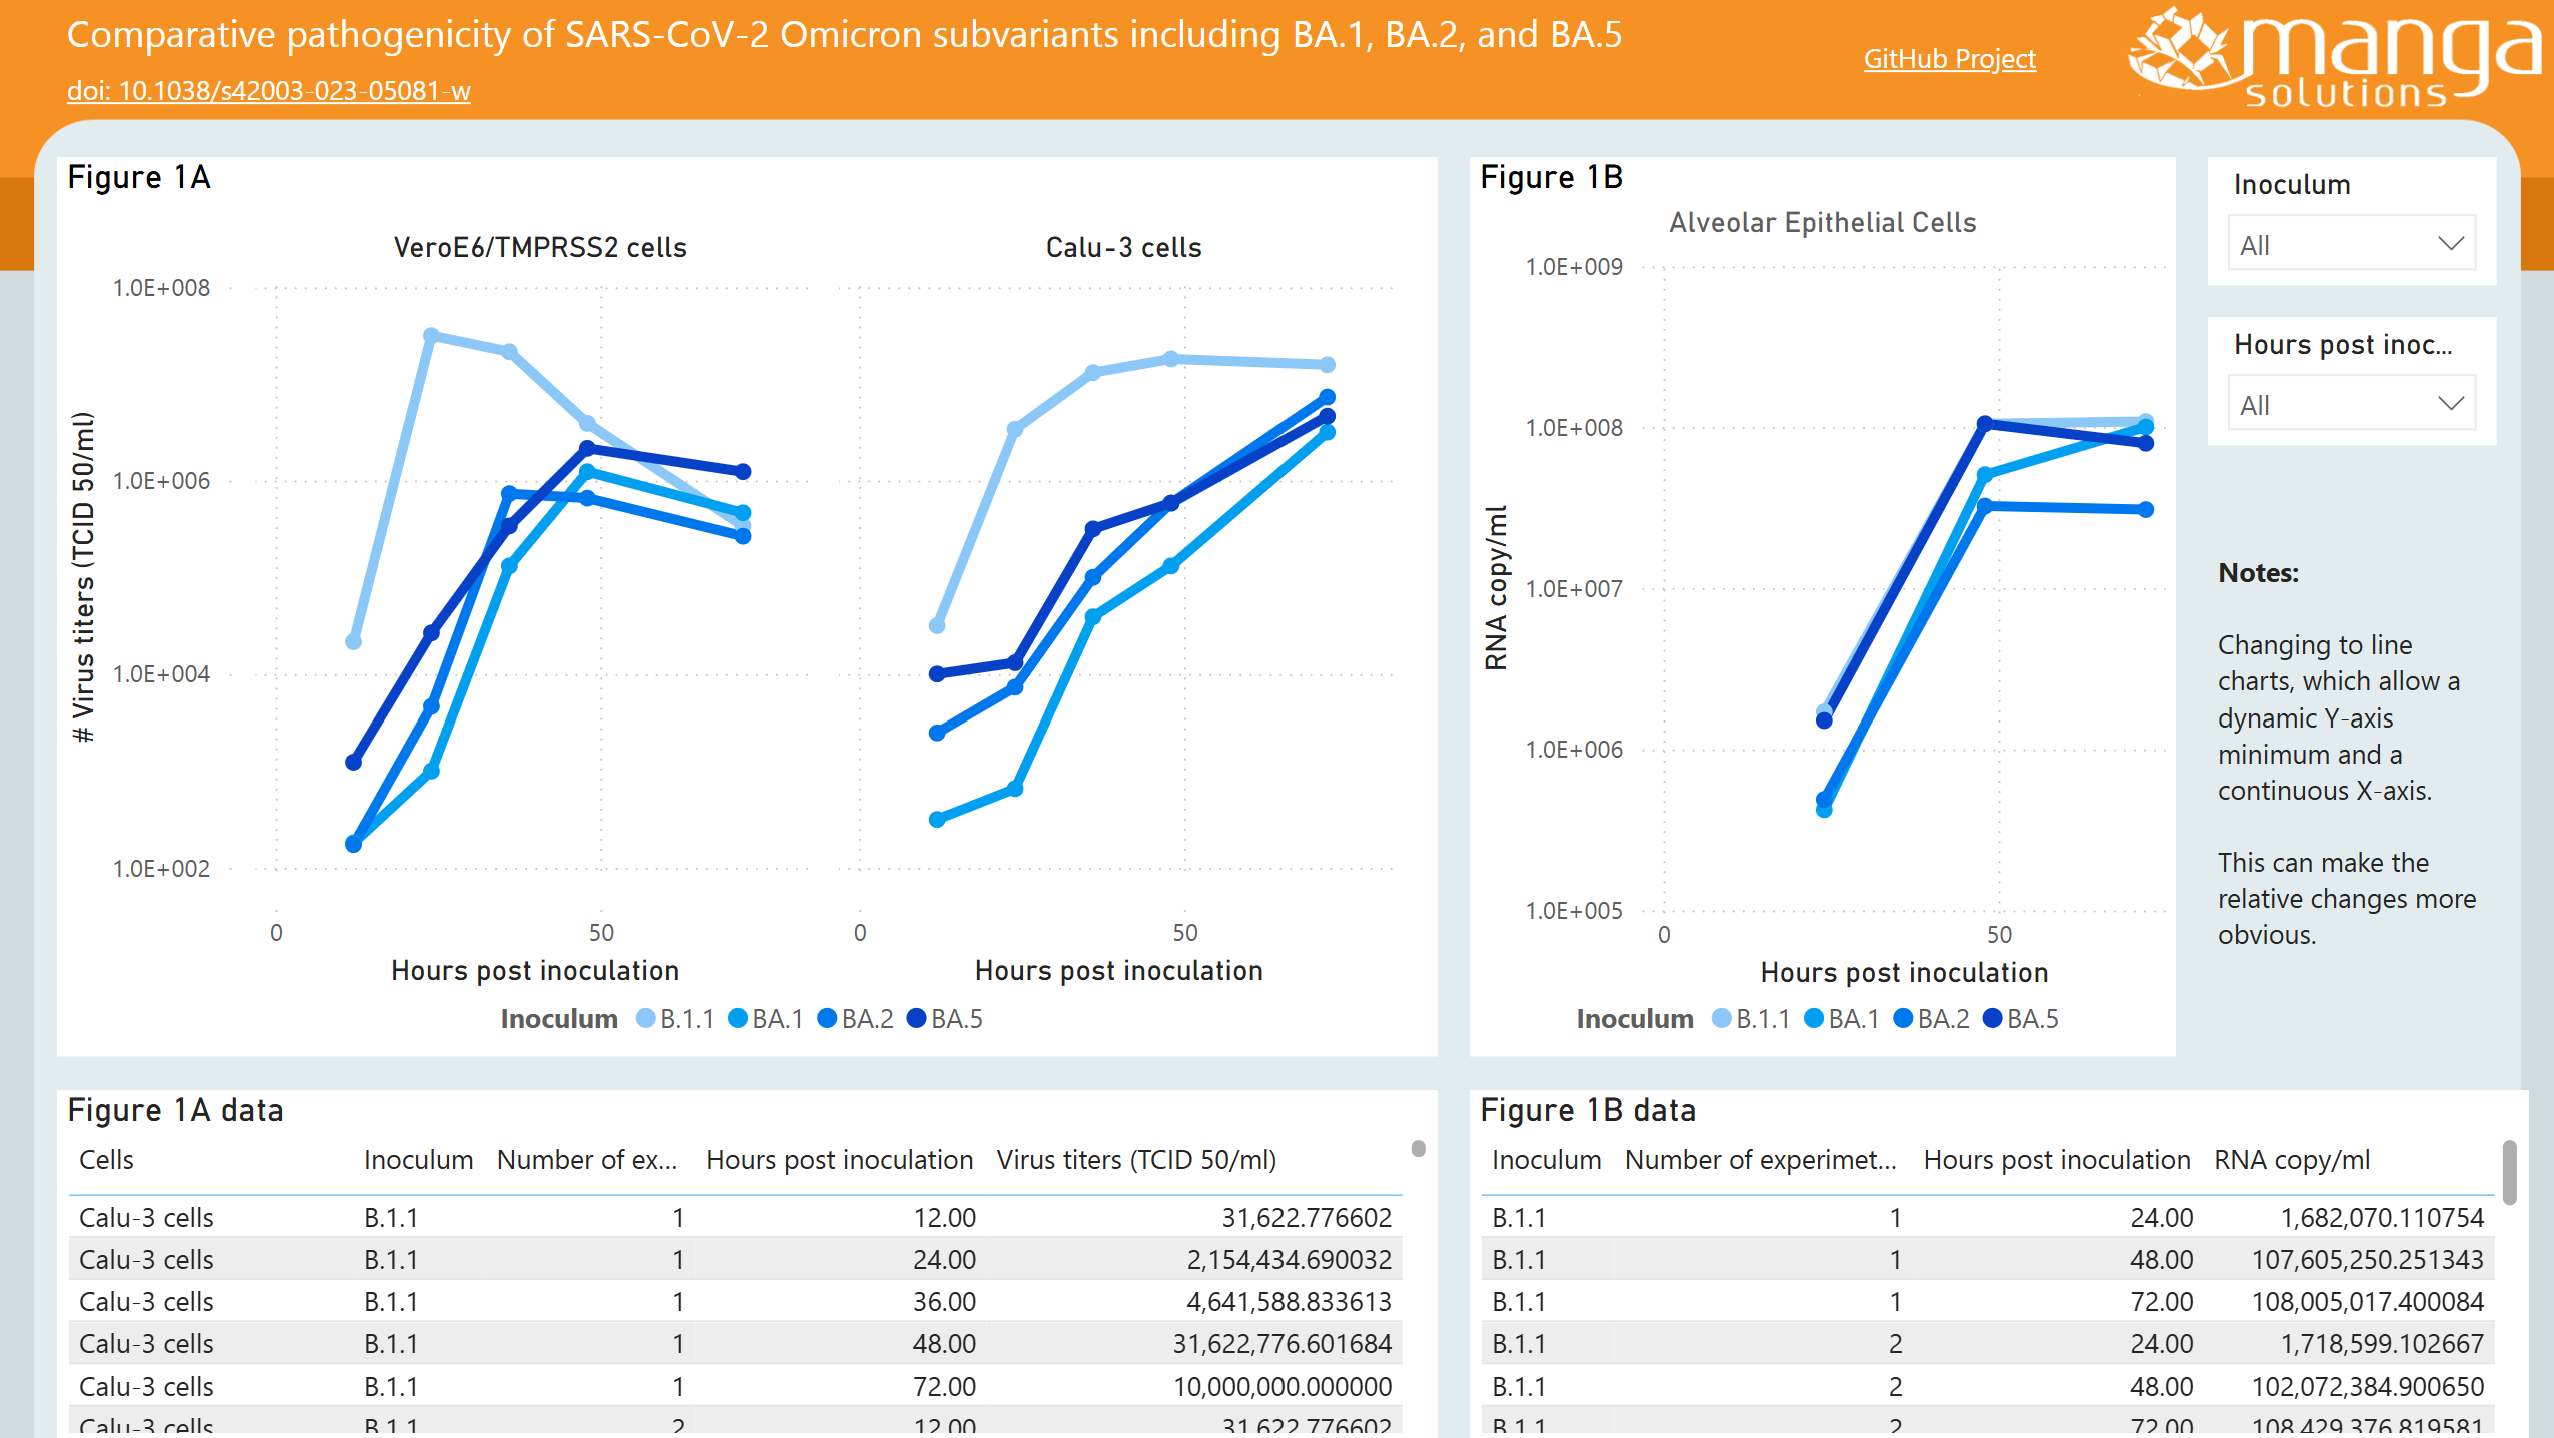

The page's visual inventory and layout, read from the dashboard file:
{"tool":"powerbi","page":{"name":"Line Charts","canvas":[1280,720],"ordinal":2},"visuals":[{"type":"slicer","fields":{"Values":["Inoculums.Inoculum"]},"box":[1104,80,144,64],"z":0},{"type":"tableEx","title":"Figure 1A data","fields":{"Values":["Figure 1A.Cells","Figure 1A.Inoculum","Figure 1A.Number of experimetal data","Figure 1A.Hours post inoculation","Figure 1A.# Virus titers (TCID 50/ml) - 6 dec"]},"box":[32,544,688,176],"z":1000},{"type":"lineChart","title":"Figure 1A","fields":{"Category":["Hours.Hours post inoculation"],"Series":["Inoculums.Inoculum"],"Y":["Figure 1A.# Virus titers (TCID 50/ml)"],"Rows":["Figure 1A.Cells"]},"box":[32,80,688,448],"z":2000},{"type":"textbox","box":[32,0,864,48],"z":3000},{"type":"actionButton","box":[1056,0,224,64],"z":4000},{"type":"textbox","box":[32,32,304,32],"z":6000},{"type":"lineChart","title":"Figure 1B","fields":{"Category":["Hours.Hours post inoculation"],"Series":["Inoculums.Inoculum"],"Y":["Figure 1B.# RNA copy/ml"]},"box":[736,80,352,448],"z":7000},{"type":"tableEx","title":"Figure 1B data","fields":{"Values":["Figure 1B.Inoculum","Figure 1B.Number of experimetal data","Figure 1B.Hours post inoculation","Figure 1B.# RNA copy/ml - 6 dec"]},"box":[736,544,528,176],"z":8000},{"type":"slicer","fields":{"Values":["Hours.Hours post inoculation"]},"box":[1104,160,144,64],"z":9000},{"type":"textbox","box":[1104,272,144,256],"z":9001},{"type":"textbox","box":[896,16,128,32],"z":9002}]}

Visuals, with their boxes in screenshot pixels (x1, y1, x2, y2), scaled from the page's 1280x720 canvas onto the 2554x1438 screenshot:
slicer - Inoculums.Inoculum: locate(2203, 160, 2490, 288)
"Figure 1A data" tableEx: locate(64, 1086, 1437, 1437)
"Figure 1A" lineChart: locate(64, 160, 1437, 1055)
textbox: locate(64, 0, 1788, 96)
actionButton: locate(2107, 0, 2553, 128)
textbox: locate(64, 64, 670, 128)
"Figure 1B" lineChart: locate(1469, 160, 2171, 1055)
"Figure 1B data" tableEx: locate(1469, 1086, 2522, 1437)
slicer - Hours.Hours post inoculation: locate(2203, 320, 2490, 447)
textbox: locate(2203, 543, 2490, 1055)
textbox: locate(1788, 32, 2043, 96)
